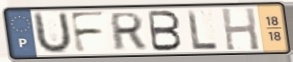B: (147, 10, 184, 53)
F: (68, 10, 108, 55)
H: (220, 7, 262, 52)
L: (185, 8, 220, 52)
R: (110, 11, 148, 53)
U: (33, 10, 74, 56)
